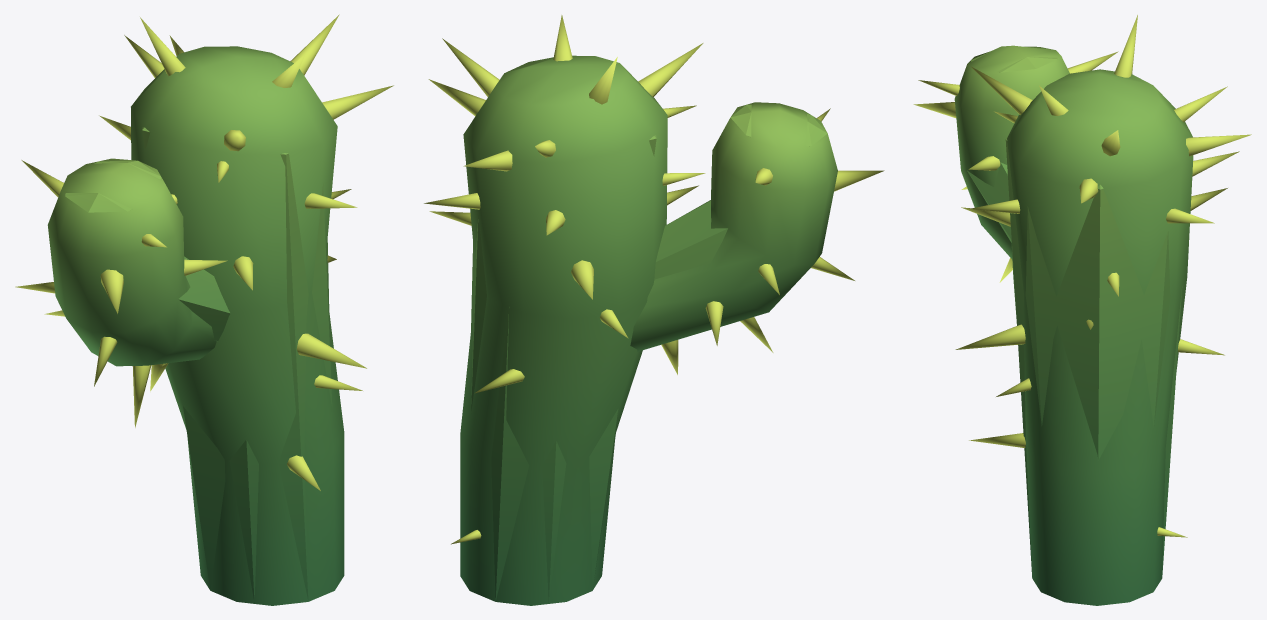
The model's file is cactus 02.fbx.
The picture shows the model from 3 angles, left to right: view 1: azimuth 30°, elevation 25°; view 2: azimuth 150°, elevation 25°; view 3: azimuth 270°, elevation 25°; orthographic projection. The views are drawn at different scales.
Visible parts, largest first — view 1: cactus 02, cactus 02 low; view 2: cactus 02, cactus 02 low; view 3: cactus 02, cactus 02 low.
Boxes of the visible parts, x1,y1,x2,y2 form: cactus 02: [15, 14, 393, 605]; cactus 02 low: [65, 127, 332, 602]; cactus 02: [424, 15, 884, 605]; cactus 02 low: [471, 104, 827, 603]; cactus 02: [913, 15, 1251, 605]; cactus 02 low: [967, 47, 1182, 574].
Size of the model in its own units: 120 by 175 by 105.
Materials: 1 (1 with a texture image).
